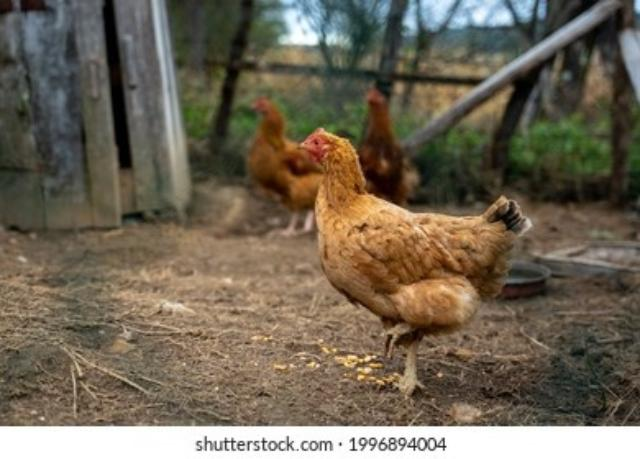Chicken: (294, 127, 530, 398), (251, 96, 322, 233), (358, 88, 421, 211)
